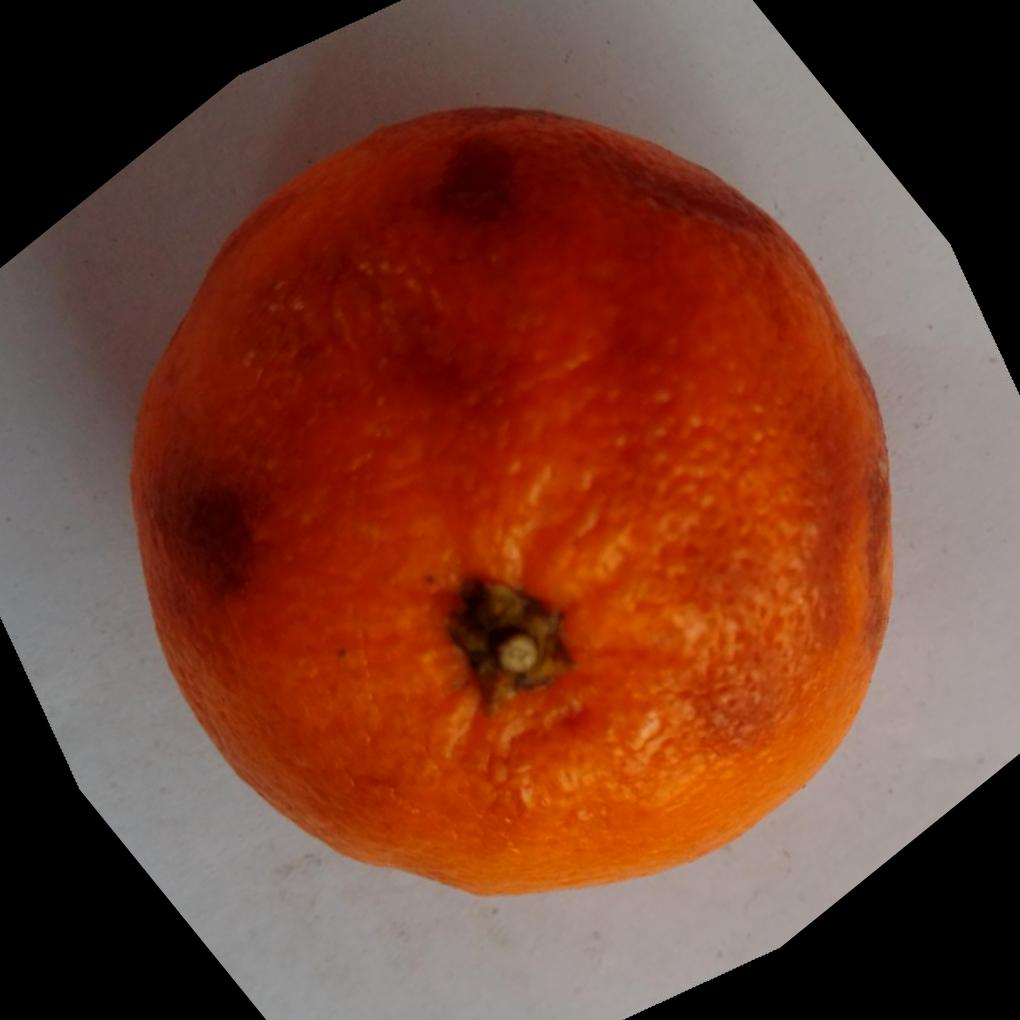FreshOrange: (128, 101, 899, 897)
